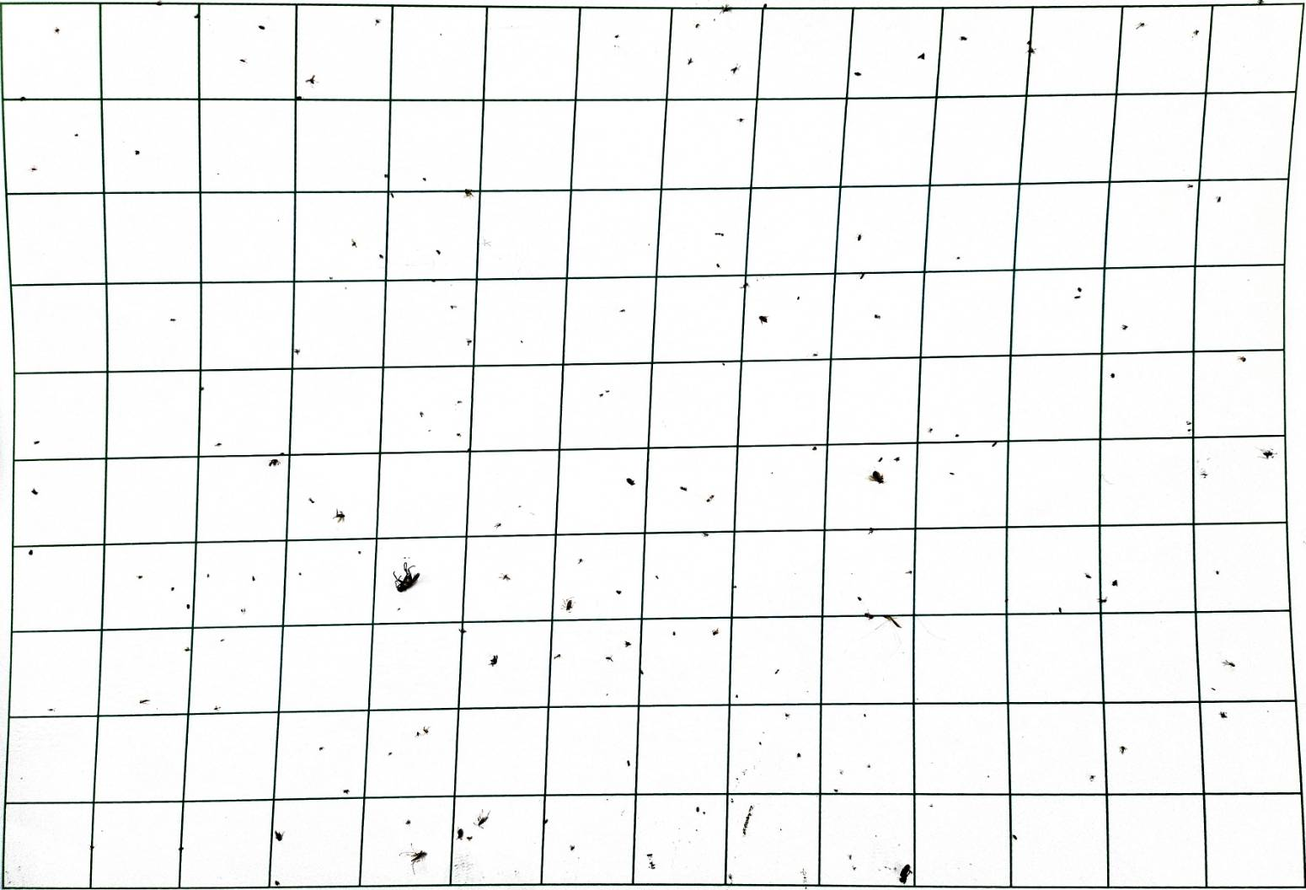fly: (392, 559, 420, 592)
test: (401, 842, 428, 870), (740, 804, 753, 835), (879, 612, 901, 628), (473, 809, 489, 828), (898, 862, 912, 883), (867, 469, 884, 484), (332, 508, 345, 523), (1258, 448, 1275, 459), (415, 724, 428, 736), (646, 852, 655, 869), (1025, 41, 1035, 55), (718, 4, 732, 14), (488, 653, 498, 666), (563, 598, 573, 611), (863, 608, 873, 621), (1221, 659, 1235, 668), (305, 74, 316, 85), (274, 829, 284, 841), (729, 64, 739, 75), (268, 458, 280, 467), (498, 572, 510, 580), (456, 827, 463, 840), (626, 477, 636, 486), (758, 315, 768, 324), (463, 188, 473, 197), (1134, 22, 1145, 30), (1117, 744, 1126, 753), (705, 494, 714, 503), (155, 0, 165, 8), (624, 759, 632, 769), (1218, 710, 1227, 718), (711, 627, 719, 636), (916, 52, 925, 60), (457, 626, 466, 634), (1236, 355, 1246, 362), (139, 698, 150, 704), (623, 639, 631, 647), (1199, 470, 1207, 478), (350, 238, 357, 247), (738, 283, 747, 290), (604, 655, 613, 662), (1096, 596, 1106, 602), (465, 337, 472, 345), (686, 57, 693, 65), (783, 711, 790, 719), (1010, 832, 1017, 840), (1191, 29, 1198, 37), (178, 846, 186, 853), (859, 272, 866, 280), (992, 440, 999, 448), (1089, 775, 1096, 783), (796, 752, 803, 760), (733, 584, 740, 592), (852, 71, 861, 77), (1256, 0, 1265, 6), (1057, 605, 1063, 614), (702, 532, 711, 538), (714, 231, 724, 236), (1110, 579, 1117, 586), (31, 488, 38, 495), (810, 444, 817, 451), (293, 348, 300, 355), (308, 497, 315, 504), (404, 818, 411, 825), (374, 19, 381, 26), (693, 22, 700, 29), (54, 27, 61, 34), (193, 13, 200, 20), (450, 304, 457, 311), (720, 361, 727, 368), (1187, 420, 1194, 427), (847, 854, 854, 861), (727, 873, 734, 880), (774, 668, 781, 675), (679, 485, 687, 491), (1083, 572, 1091, 578), (257, 25, 265, 31), (855, 233, 861, 241), (493, 522, 501, 528), (183, 646, 191, 652), (389, 193, 397, 199), (868, 526, 874, 534), (638, 670, 646, 676), (615, 589, 623, 595), (958, 36, 967, 41), (214, 442, 223, 447), (906, 570, 915, 575), (873, 313, 880, 319), (1120, 324, 1127, 330), (1108, 372, 1115, 378), (28, 548, 34, 555), (1075, 286, 1081, 293), (736, 117, 743, 123), (568, 844, 574, 851), (465, 834, 472, 840), (273, 879, 280, 885), (30, 166, 37, 172), (89, 843, 95, 850), (251, 575, 257, 582), (379, 253, 385, 260), (857, 596, 864, 602), (851, 865, 857, 872), (866, 762, 872, 769), (671, 631, 678, 637), (543, 818, 550, 824), (239, 58, 247, 63), (213, 705, 221, 710), (19, 95, 27, 100), (383, 174, 391, 179), (893, 457, 901, 462), (953, 433, 961, 438), (134, 149, 140, 155), (435, 249, 441, 255), (343, 787, 349, 793), (418, 411, 424, 417), (1215, 196, 1221, 202), (1214, 568, 1220, 574), (296, 94, 302, 100), (185, 604, 191, 610), (812, 351, 818, 357), (763, 3, 769, 9), (956, 255, 962, 261), (928, 428, 934, 434), (758, 741, 764, 747), (169, 317, 176, 322), (33, 439, 40, 444), (1185, 183, 1192, 188), (47, 707, 54, 712), (457, 399, 464, 404), (796, 295, 801, 302), (832, 788, 839, 793), (734, 693, 739, 700), (576, 559, 584, 563), (318, 745, 324, 750), (199, 385, 204, 391), (169, 588, 175, 593), (396, 607, 402, 612), (280, 451, 285, 457), (456, 432, 462, 437), (621, 309, 627, 314), (605, 389, 610, 395), (715, 264, 721, 269), (422, 177, 428, 182), (614, 34, 620, 39), (1210, 686, 1216, 691), (555, 654, 561, 659), (730, 797, 735, 803), (519, 340, 526, 344), (1074, 295, 1081, 299), (949, 471, 956, 475), (240, 608, 245, 613), (206, 573, 211, 578), (878, 457, 883, 462), (863, 712, 868, 717), (695, 807, 700, 812), (599, 393, 605, 397), (655, 574, 659, 580), (220, 638, 225, 642), (298, 572, 302, 577), (357, 551, 361, 556), (74, 133, 79, 137), (388, 751, 392, 756), (930, 804, 935, 808), (1187, 429, 1192, 432), (136, 576, 143, 578)
